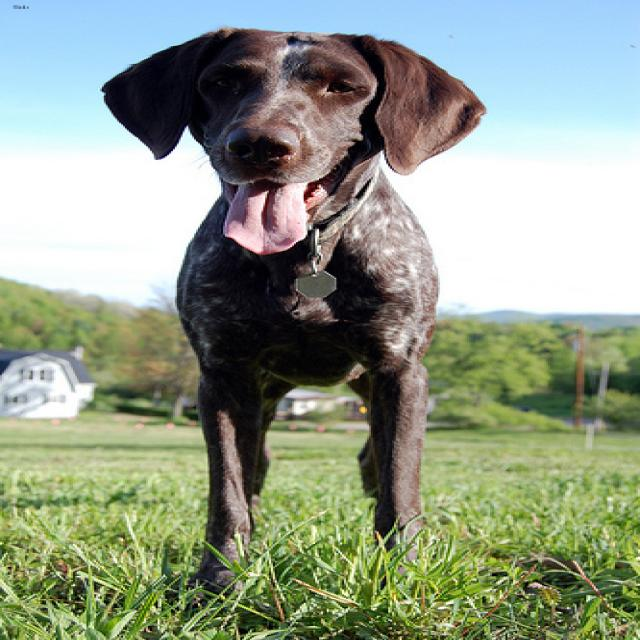dog-german_shorthaired: (85, 24, 492, 618)
